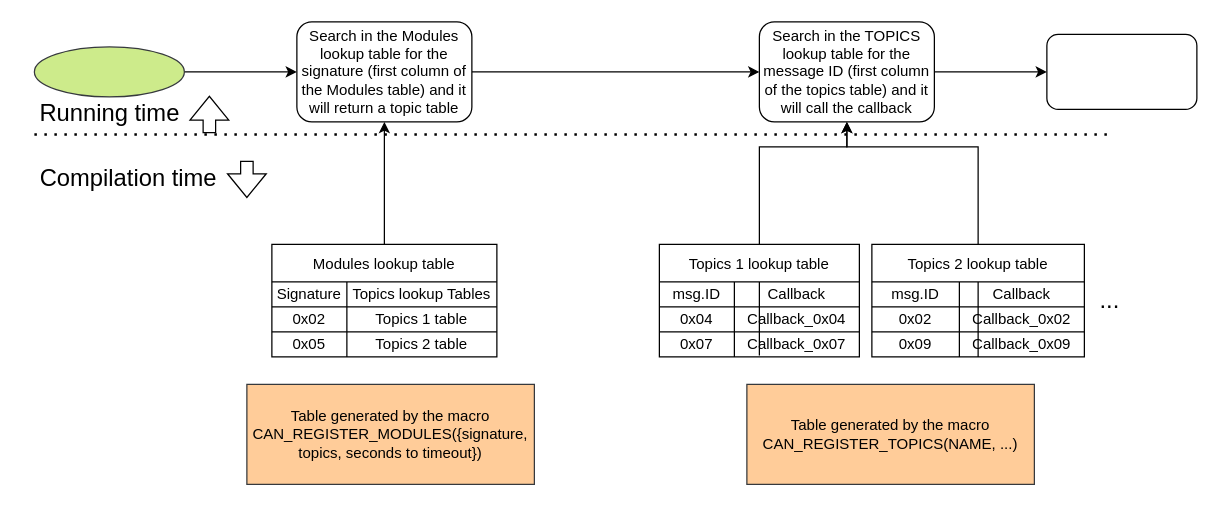
Image size: 1219x506. Some labels were removed from this diagram. Each missing label, with the centre of its shape:
Message: [108,71]
The callback is the interface between the user and the message: [1121,71]
